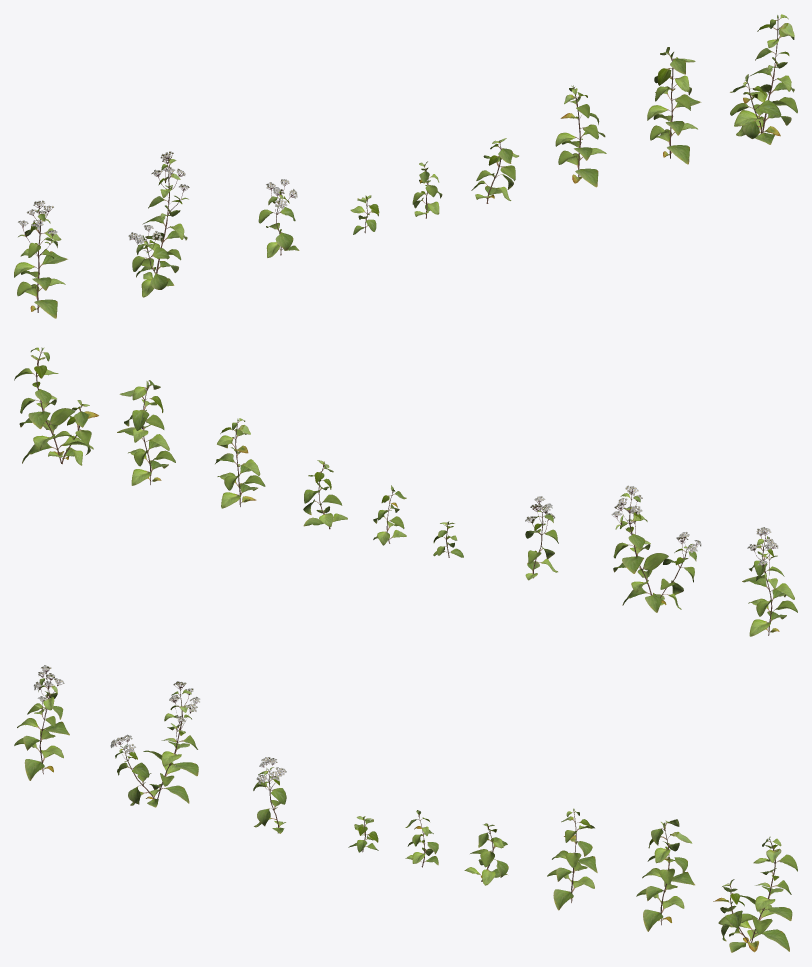
File: shrub_01.gltf
3 views of the same model, one above another, from view 1: azimuth 30°, elevation 25°; view 2: azimuth 150°, elevation 25°; view 3: azimuth 330°, elevation 25° (orthographic). The views are drawn at different scales.
Parts seen in each view (by area): view 1: shrub_01_a; view 2: shrub_01_a; view 3: shrub_01_a.
Boxes of the visible parts, bbox=[...] form: shrub_01_a: bbox=[14, 14, 797, 318]; shrub_01_a: bbox=[14, 347, 797, 636]; shrub_01_a: bbox=[14, 665, 797, 952].
Bounding box in the file's own units: 2.59 × 0.3959 × 0.2184.
Materials: 1 (1 with a texture image).
